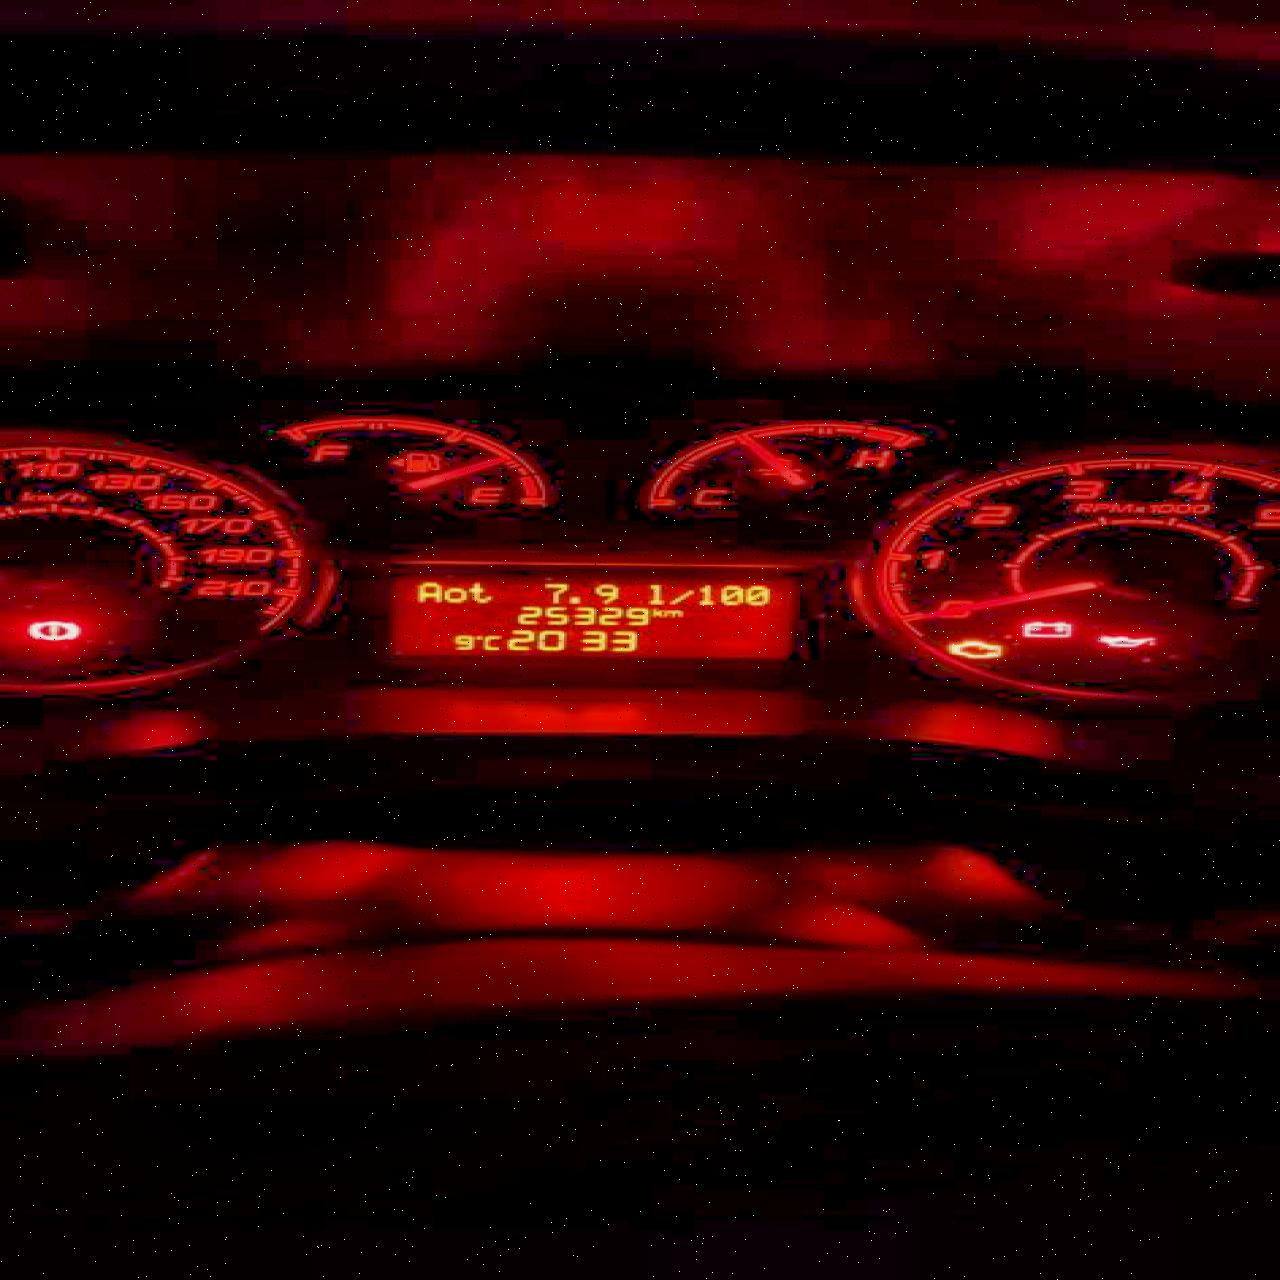-: (564, 595, 580, 604)
0: (535, 628, 564, 652), (743, 584, 770, 605), (716, 584, 743, 605)
1: (694, 583, 713, 605)
2: (504, 628, 531, 651), (512, 605, 543, 624), (597, 606, 621, 625)
3: (607, 628, 638, 652), (578, 629, 607, 651), (570, 606, 594, 625)
5: (543, 605, 570, 625)
7: (539, 583, 566, 604)
9: (591, 583, 621, 604), (624, 606, 648, 626), (450, 634, 475, 651)
X: (413, 580, 440, 602), (467, 580, 491, 604), (642, 583, 665, 605), (665, 588, 694, 605), (442, 586, 467, 602), (481, 634, 502, 652), (662, 608, 683, 618), (651, 607, 662, 618)
odometer: (384, 572, 797, 661)
